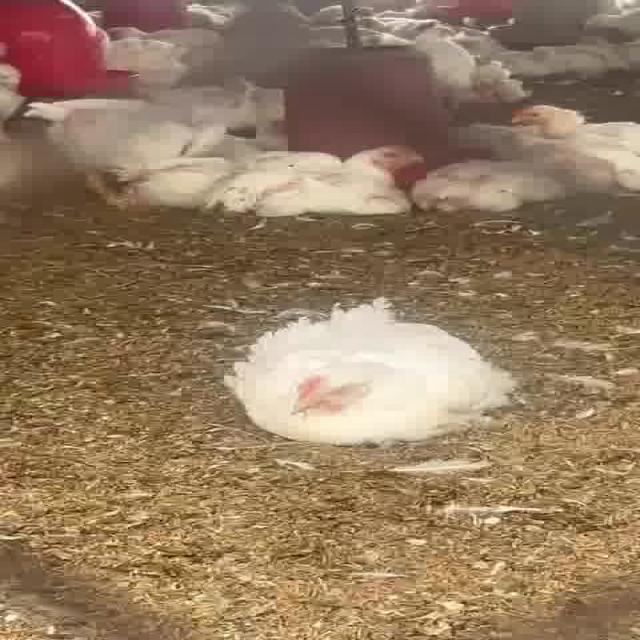AbNormal: (235, 308, 506, 446), (212, 144, 429, 222), (506, 102, 640, 160)
